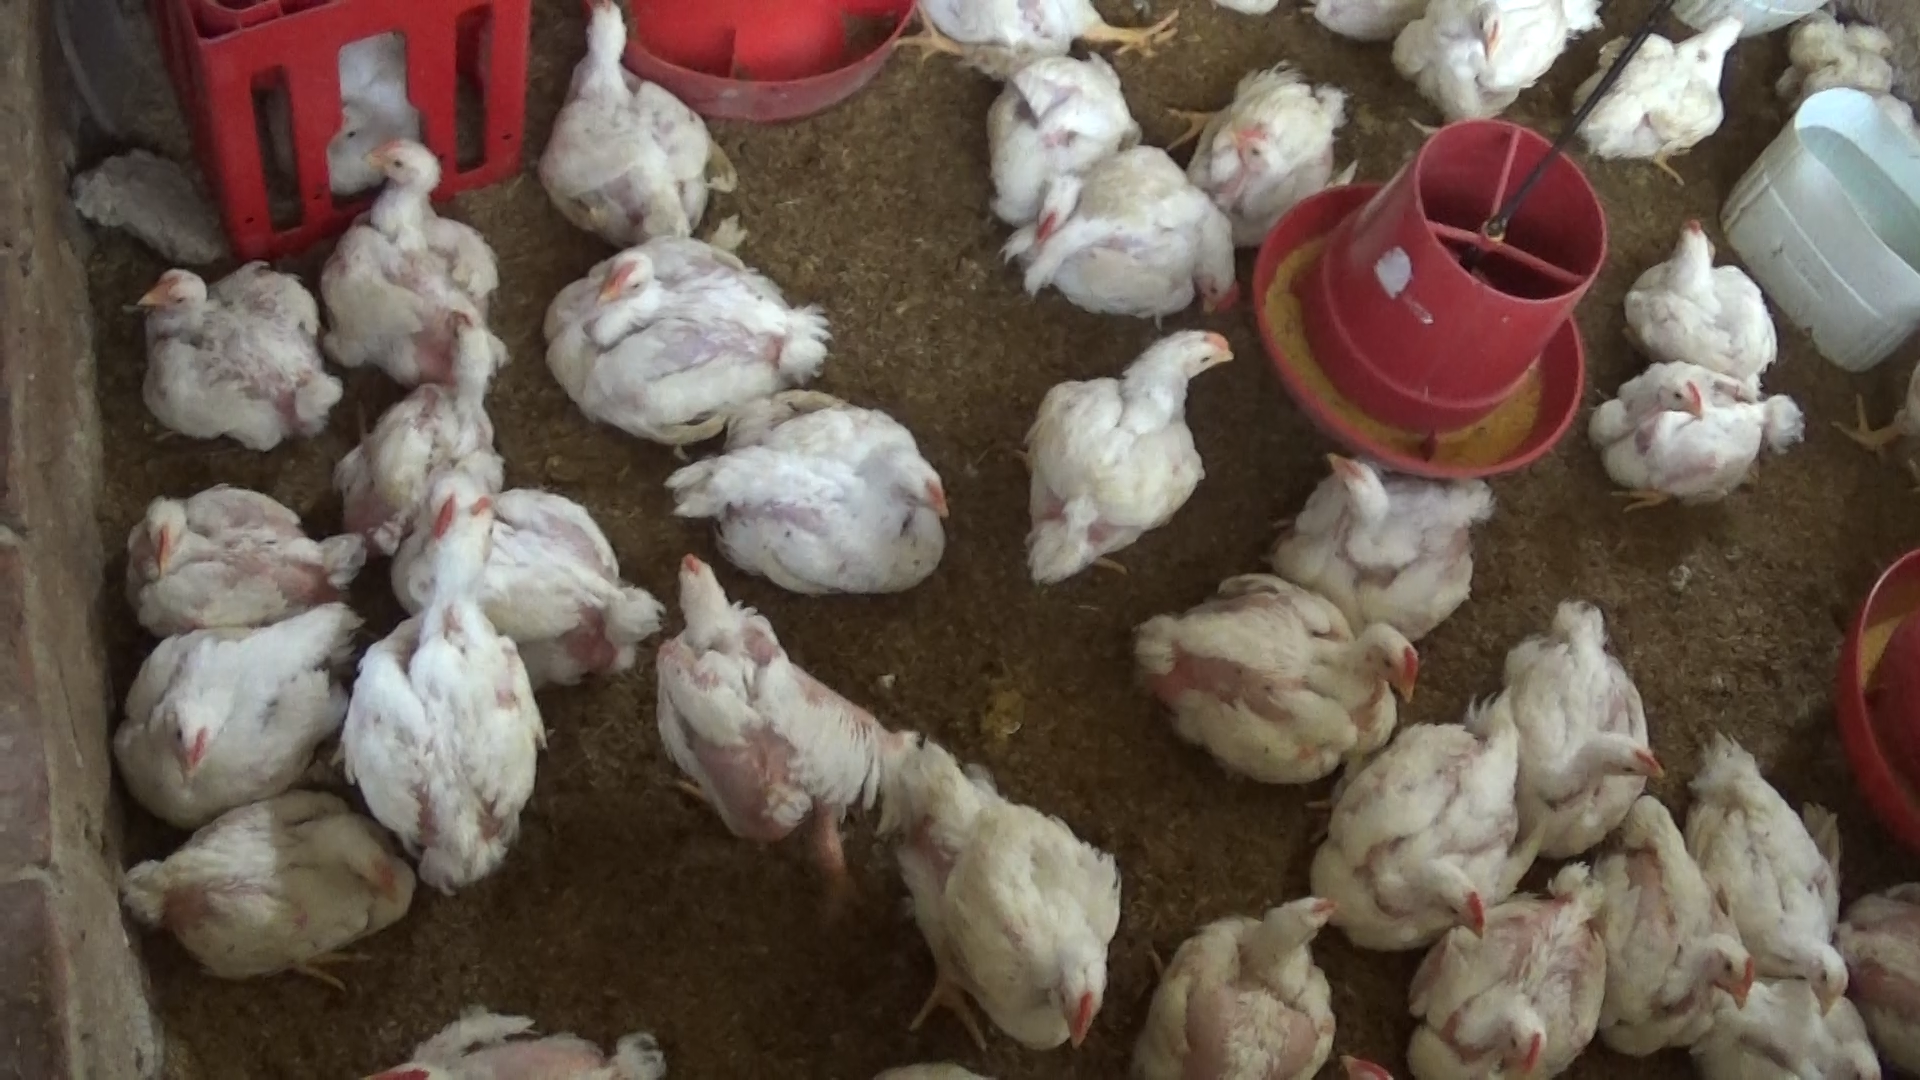Pollos: (868, 723, 1135, 1068), (351, 487, 545, 884), (641, 551, 884, 868), (1133, 556, 1418, 796), (997, 334, 1257, 588), (553, 225, 833, 448), (675, 378, 951, 599), (1298, 694, 1542, 942), (123, 804, 431, 1000), (316, 123, 527, 402), (1581, 771, 1774, 1069), (111, 593, 345, 833), (526, 0, 742, 257), (1395, 851, 1635, 1080), (1105, 858, 1352, 1080), (1662, 742, 1857, 1015), (109, 237, 347, 444), (1033, 128, 1259, 336), (1275, 434, 1502, 640), (1582, 349, 1822, 531), (1607, 204, 1821, 409), (1477, 599, 1660, 833), (960, 49, 1160, 257), (1160, 55, 1360, 252), (117, 473, 345, 622), (1572, 12, 1764, 173), (1377, 0, 1594, 131)
